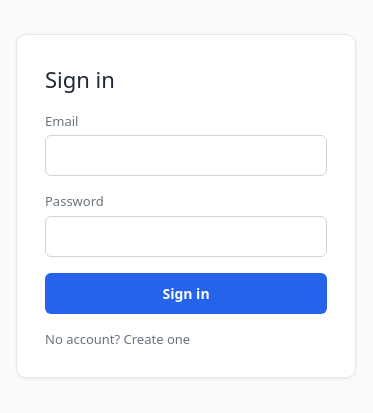
LoginPage › shows an error message when login fails
The image size is (373, 413).
Type "x@x.com" into the field at x=186, y=156, box [45,135,327,176]
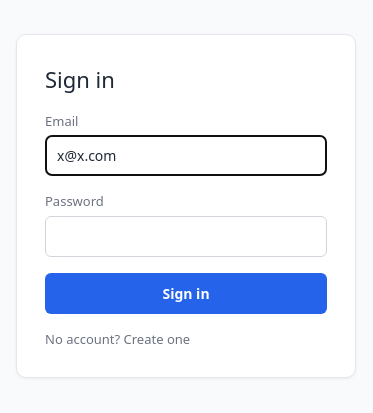
Type "wrong" into the password field labelled "Password" at x=186, y=236, box [45,216,327,257]
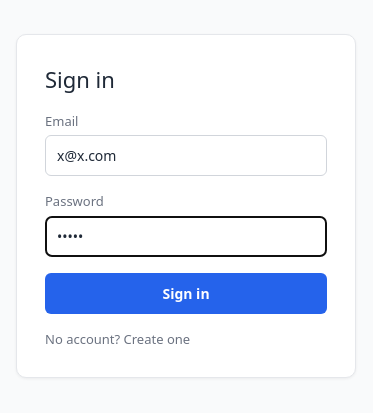
Click the button "Sign in" at x=186, y=293, box [45,273,327,314]
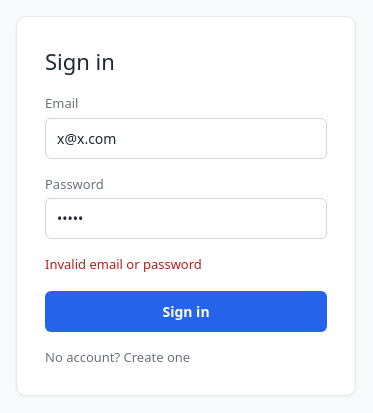
Result: the text "Invalid email or password" is shown at [45,255,202,273]
